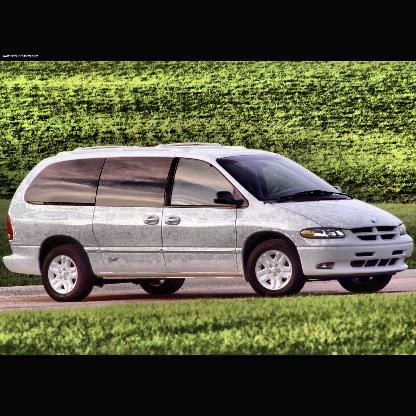Dodge Caravan Minivan 1997: (3, 140, 416, 305)
